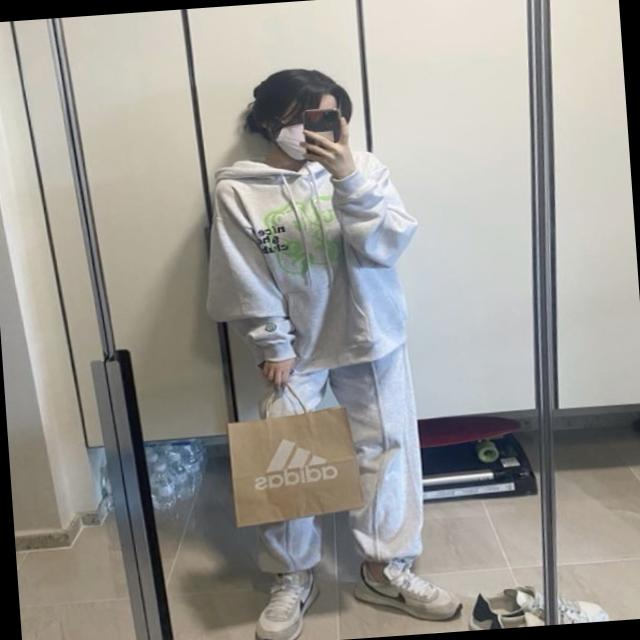hoodies: (197, 142, 426, 377)
trainingpants: (252, 342, 436, 582)
